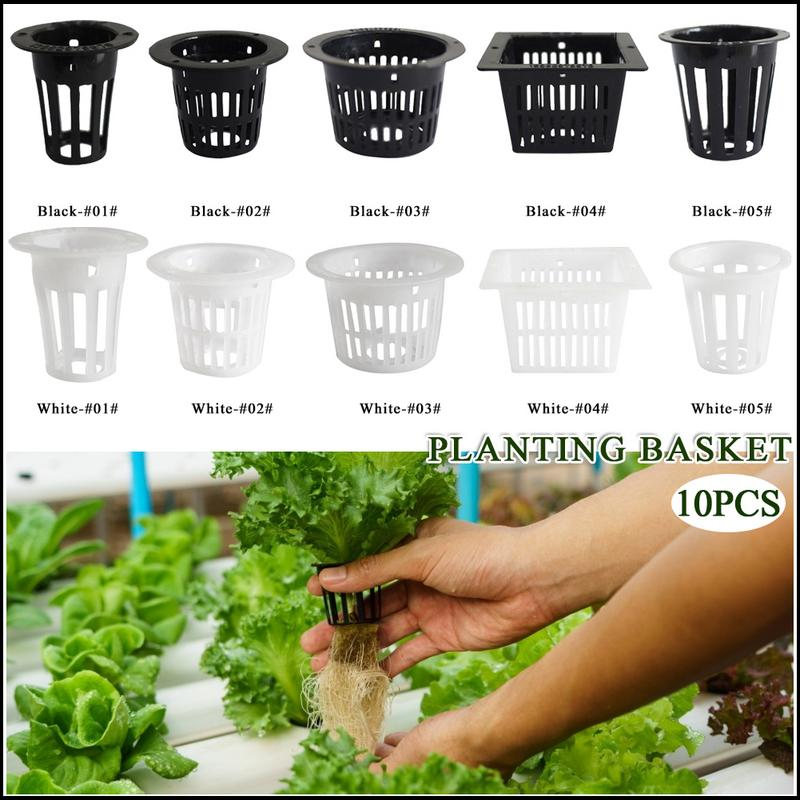basket: (469, 232, 661, 391), (298, 22, 470, 174), (472, 14, 641, 161), (307, 237, 471, 386), (17, 220, 155, 395), (655, 11, 796, 172), (12, 17, 146, 182), (152, 221, 290, 379), (667, 232, 800, 393), (156, 13, 279, 172), (308, 559, 391, 626)
